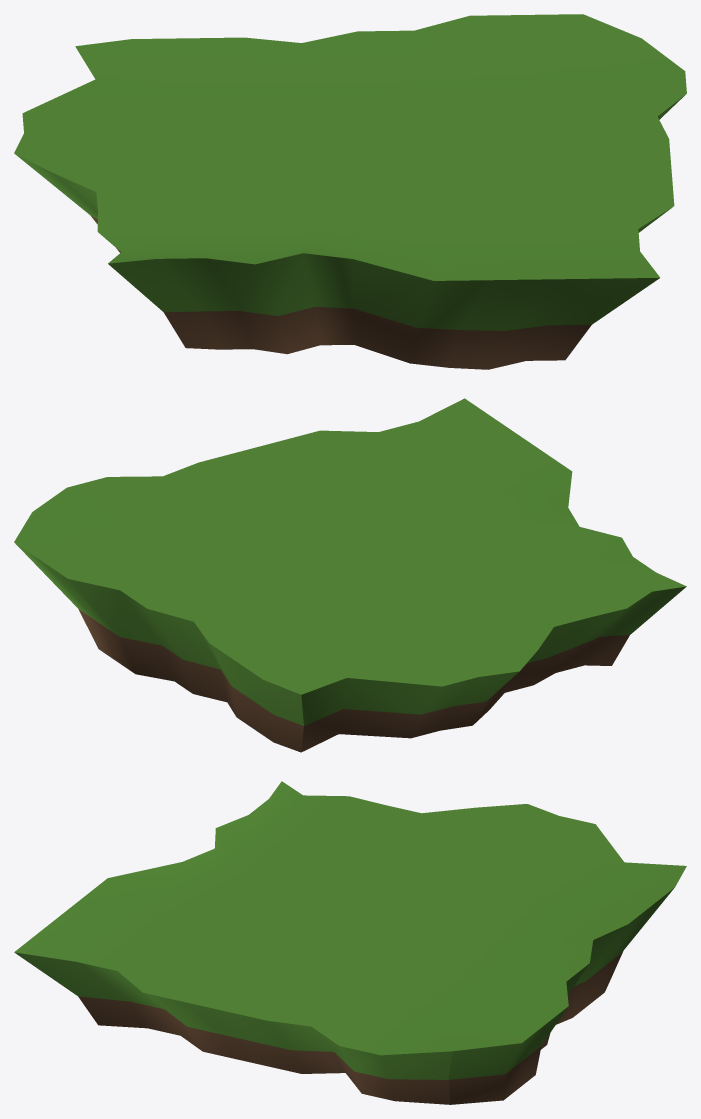
Rendered from ws_island.fbx.
3 views of the same model, one above another, from view 1: azimuth 30°, elevation 25°; view 2: azimuth 150°, elevation 25°; view 3: azimuth 270°, elevation 25° (orthographic). The views are drawn at different scales.
Visible parts, largest first — view 1: ws_Island; view 2: ws_Island; view 3: ws_Island.
Part boxes in pixels (box(x1,y1,x2,y2)): ws_Island: box(14, 14, 686, 369); ws_Island: box(14, 398, 686, 752); ws_Island: box(14, 781, 686, 1104).
Size of the model in its own units: 2339 by 375 by 2452.
